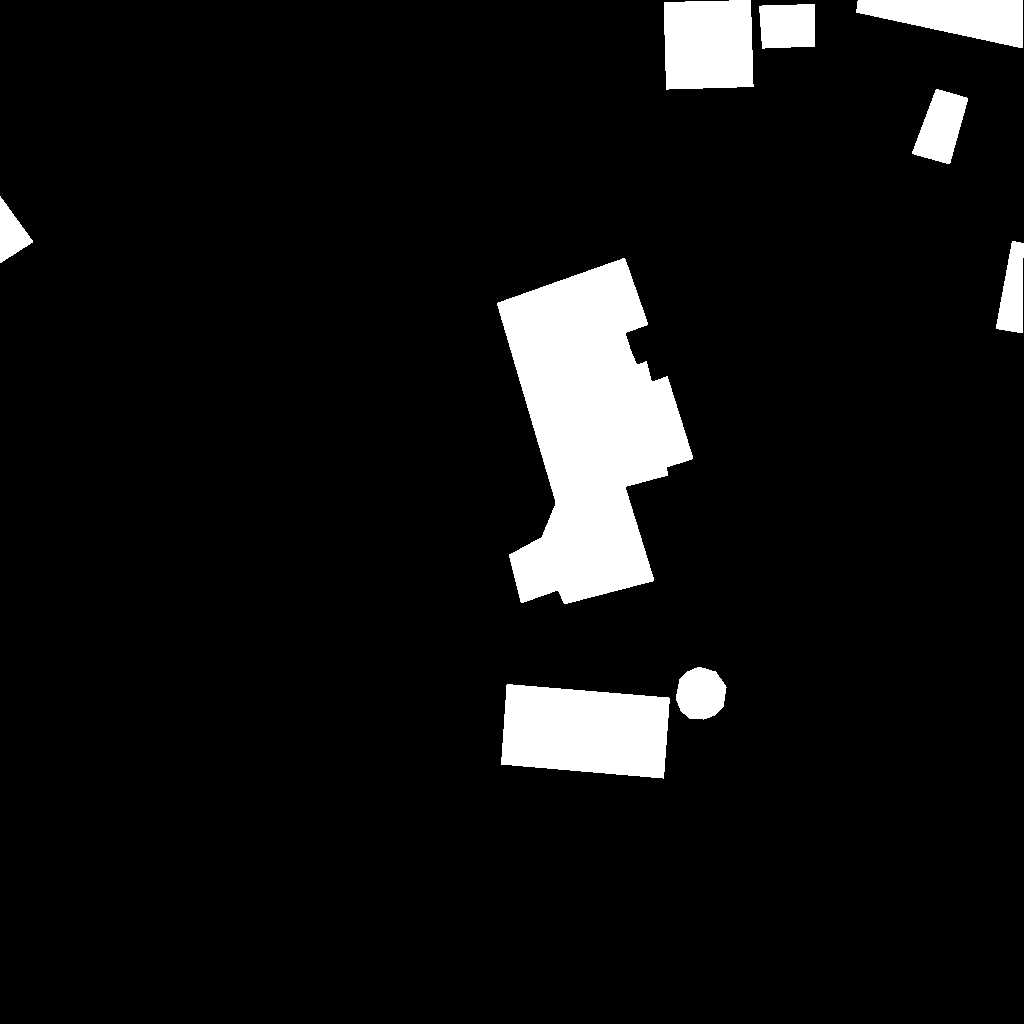building: (497, 258, 694, 605), (501, 684, 671, 779), (856, 0, 1024, 49), (664, 0, 754, 90), (912, 89, 969, 165), (676, 667, 727, 720), (996, 241, 1024, 334), (759, 4, 816, 49), (0, 196, 34, 264)
